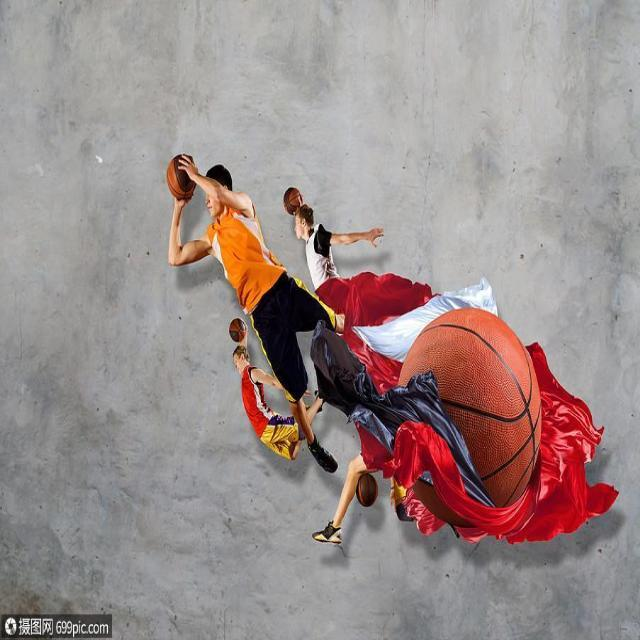rim: (398, 306, 539, 506), (164, 156, 195, 200), (356, 472, 380, 506), (282, 188, 302, 214), (227, 314, 246, 340)
